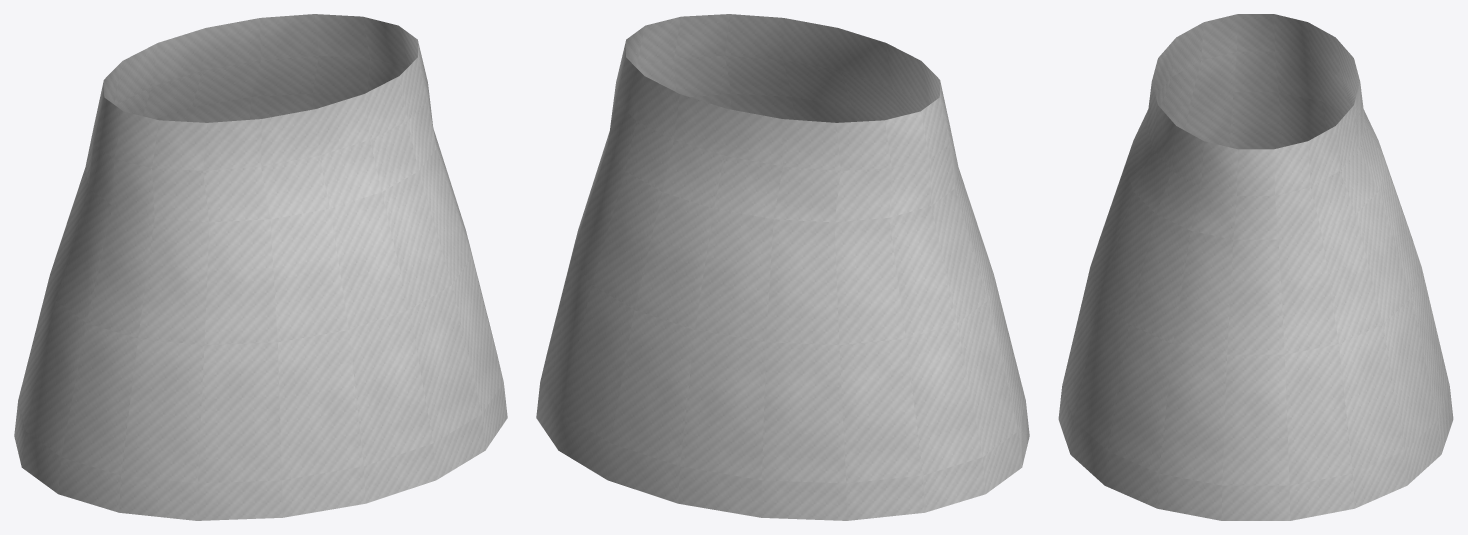
File: pants_skirt_hips_m.glb
The picture shows the model from 3 angles, left to right: view 1: azimuth 30°, elevation 25°; view 2: azimuth 150°, elevation 25°; view 3: azimuth 270°, elevation 25°; orthographic projection. The views are drawn at different scales.
Visible parts, largest first — view 1: pants_skirt_hips_m; view 2: pants_skirt_hips_m; view 3: pants_skirt_hips_m.
Boxes of the visible parts, x1=… form: pants_skirt_hips_m: x1=14, y1=14, x2=507, y2=520; pants_skirt_hips_m: x1=536, y1=14, x2=1029, y2=520; pants_skirt_hips_m: x1=1058, y1=14, x2=1453, y2=520.
Bounding box in the file's own units: 0.516 × 0.4 × 0.424.
Materials: 1 (1 with a texture image).
